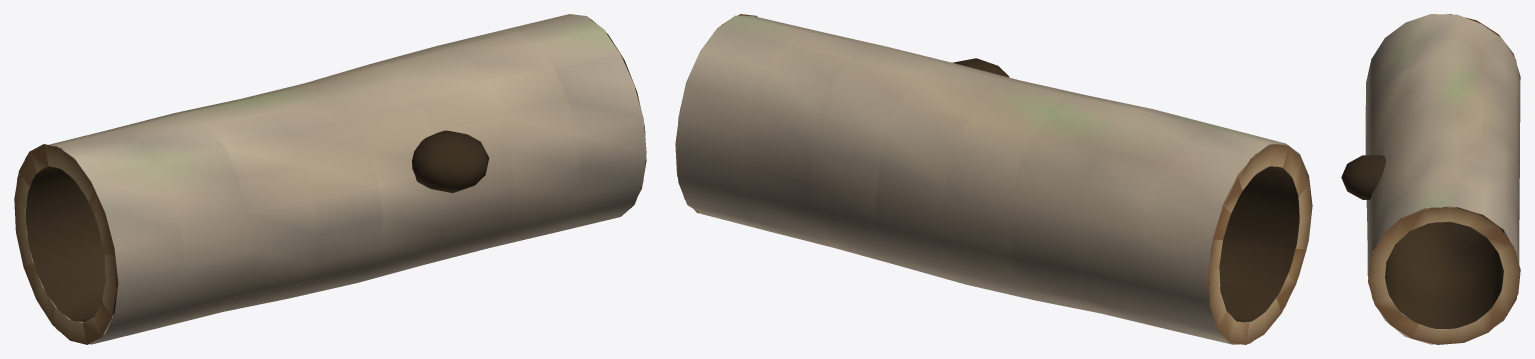
Rendered from PLN_Log_Hollow.fbx.
3 views of the same model, side by side, from view 1: azimuth 30°, elevation 25°; view 2: azimuth 150°, elevation 25°; view 3: azimuth 270°, elevation 25° (orthographic). The views are drawn at different scales.
Visible parts, largest first — view 1: PLN_Log_Hollow; view 2: PLN_Log_Hollow; view 3: PLN_Log_Hollow.
Boxes of the visible parts, x1,y1,x2,y2 form: PLN_Log_Hollow: [14, 14, 646, 344]; PLN_Log_Hollow: [675, 14, 1312, 344]; PLN_Log_Hollow: [1341, 14, 1520, 344].
Bounding box in the file's own units: 1.9 × 0.6529 × 0.7488.
